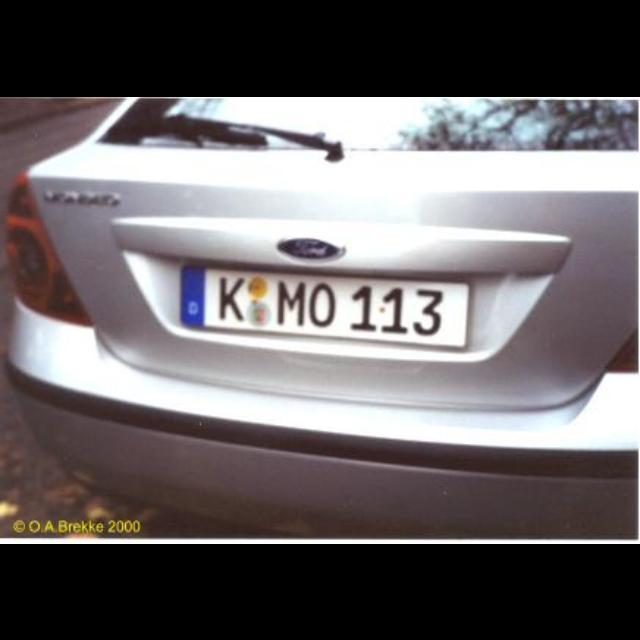license-plates: (180, 265, 470, 348)
